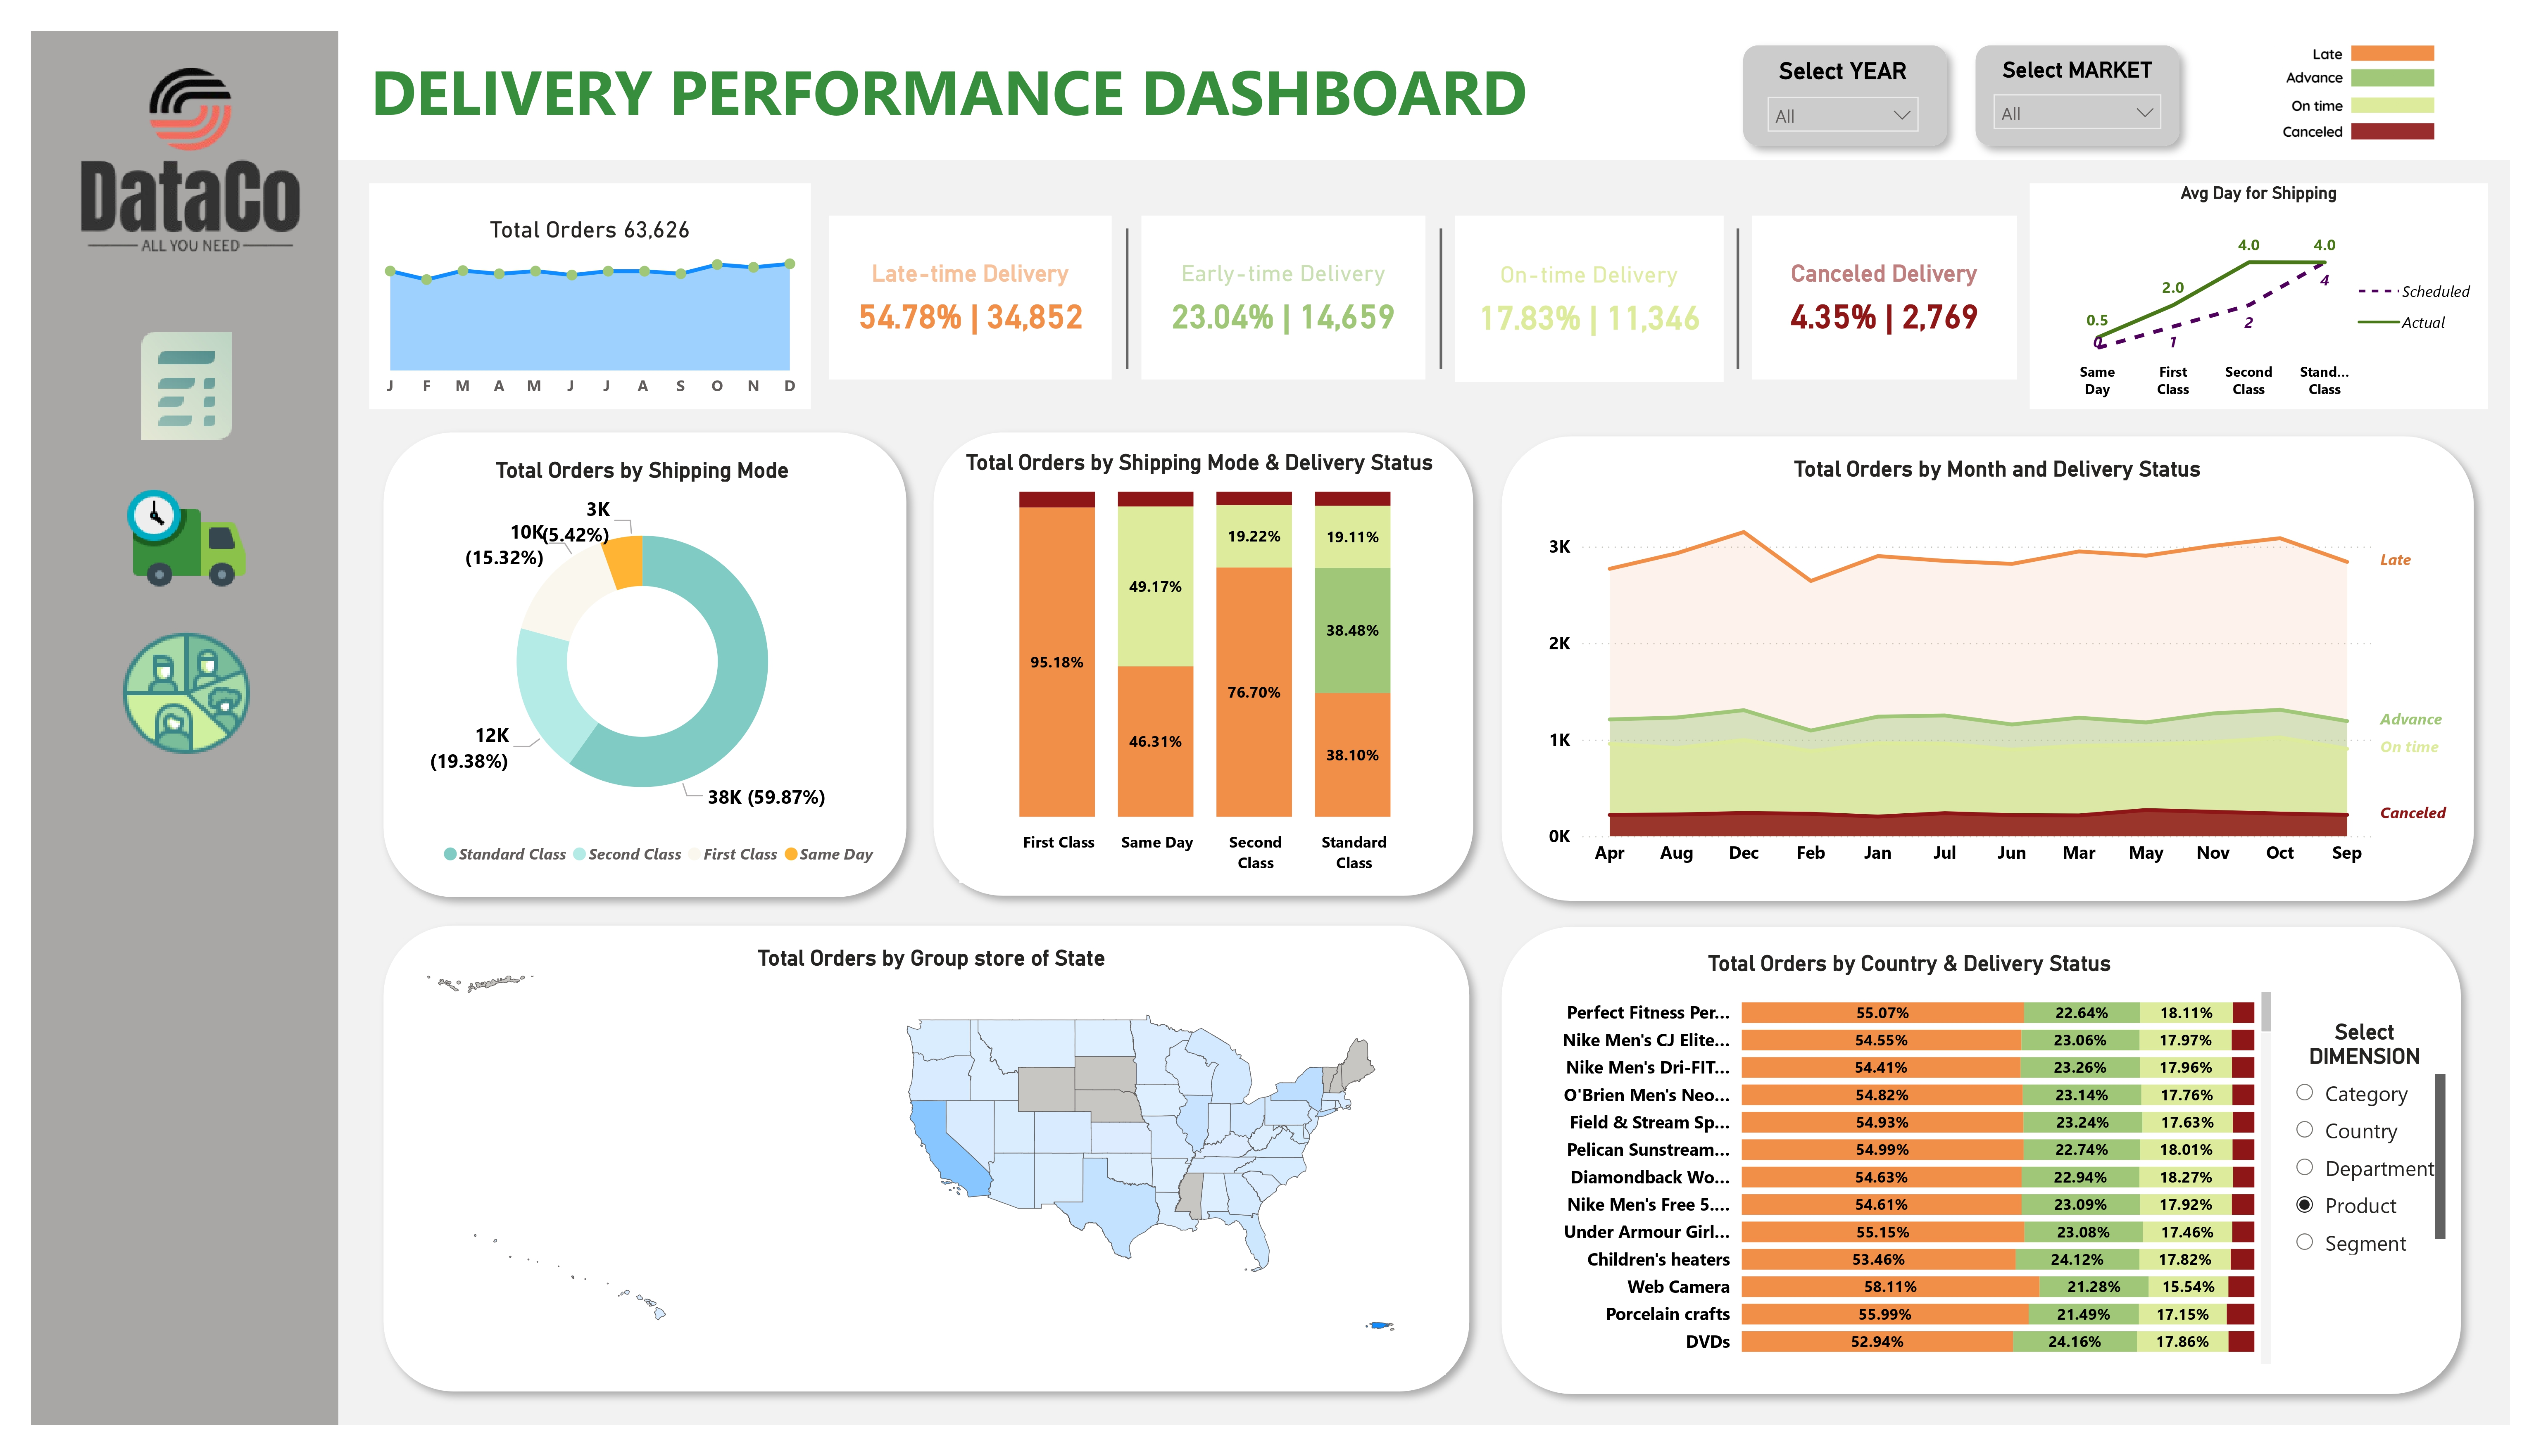

What the dashboard file says about the page in this screenshot:
{"tool":"tableau","page":{"name":"DELIVERY dashboard","canvas":[1600,900],"ordinal":1},"visuals":[{"type":"image","param":"Image/Template Delivery.jpg","box":[0,0,1600,900]},{"type":"filter","title":"Total Orders by Shipping Mode & Delivery Status ","param":"[federated.1q7cowo1s3advo10dbl711lnegs0].[none:Customer Market:nk]","box":[1162,11,160,51]},{"type":"filter","title":"Total Orders by Shipping Mode & Delivery Status ","param":"[federated.1q7cowo1s3advo10dbl711lnegs0].[yr:Order Date:ok]","box":[975,12,160,51]},{"type":"text","box":[196,15,520,44]},{"type":"worksheet","title":"Avg Day for Shipping","mark":"Line","rows":["Days for shipment (scheduled)","Days for shipping (real)"],"cols":["Shipping Mode"],"box":[1212,87,369,129]},{"type":"worksheet","title":"Total orders","mark":"Automatic","box":[302,94,188,28]},{"type":"worksheet","title":"Late-time Delivery","mark":"Automatic","box":[552,105,164,87]},{"type":"worksheet","title":"Early-time Delivery","mark":"Automatic","box":[716,105,169,87]},{"type":"worksheet","title":"On-time Delivery","mark":"Automatic","box":[885,105,157,87]},{"type":"worksheet","title":"Canceled Delivery","mark":"Automatic","box":[1042,105,160,87]},{"type":"worksheet","title":"Total orders by month","mark":"Area","rows":["Calculation_1693916422482567170"],"cols":["Month"],"box":[213,117,320,97]},{"type":"dashboard-object","box":[39,161,111,92.3]},{"type":"worksheet","title":"Total Orders by Month and Delivery Status","mark":"Area","rows":["Calculation_1693916422482567170"],"cols":["Month"],"box":[874,231,690,283]},{"type":"worksheet","title":"Total Orders by Shipping Mode","mark":"Pie","rows":["Calculation_1507298513372962832","Calculation_1507298513373003794"],"box":[215,233,294,224]},{"type":"worksheet","title":"Total Orders by Shipping Mode & Delivery Status ","mark":"Automatic","cols":["Shipping Mode"],"box":[542,235,293,281]},{"type":"dashboard-object","box":[39,253.3,111,92.3]},{"type":"dashboard-object","box":[39,345.7,111,92.3]},{"type":"legend","title":"Total Orders by Shipping Mode","param":"[federated.1q7cowo1s3advo10dbl711lnegs0].[none:Shipping Mode:nk]","box":[250,462,249,50]},{"type":"text","box":[869,549,697,30]},{"type":"worksheet","title":"Total Orders by Group store of State","mark":"Automatic","box":[221,551,611,321]},{"type":"worksheet","title":"Total Orders by Dimension and Delivery Status","mark":"Automatic","rows":["Calculation_1507298513379631125"],"cols":["Calculation_1693916422482567170"],"box":[876,586,531,287]},{"type":"parameter","param":"[Parameters].[Parameter 2]","box":[1416,633,146,143]}]}

Visuals, with their boxes in screenshot pixels (x1, y1, x2, y2), scaled from the page's 1600x900 canvas onto the 2541x1456 screenshot:
image: rect(0, 0, 2541, 1456)
"Total Orders by Shipping Mode & Delivery Status " filter: rect(1845, 18, 2099, 100)
"Total Orders by Shipping Mode & Delivery Status " filter: rect(1549, 19, 1803, 102)
text: rect(311, 24, 1137, 95)
"Avg Day for Shipping" worksheet (Line marks): rect(1925, 141, 2511, 349)
"Total orders" worksheet: rect(480, 152, 778, 197)
"Late-time Delivery" worksheet: rect(877, 170, 1137, 311)
"Early-time Delivery" worksheet: rect(1137, 170, 1406, 311)
"On-time Delivery" worksheet: rect(1406, 170, 1655, 311)
"Canceled Delivery" worksheet: rect(1655, 170, 1909, 311)
"Total orders by month" worksheet (Area marks): rect(338, 189, 847, 346)
dashboard-object: rect(62, 261, 238, 410)
"Total Orders by Month and Delivery Status" worksheet (Area marks): rect(1388, 374, 2484, 831)
"Total Orders by Shipping Mode" worksheet (Pie marks): rect(341, 377, 808, 739)
"Total Orders by Shipping Mode & Delivery Status " worksheet: rect(861, 380, 1326, 835)
dashboard-object: rect(62, 410, 238, 559)
dashboard-object: rect(62, 559, 238, 709)
"Total Orders by Shipping Mode" legend: rect(397, 748, 792, 828)
text: rect(1380, 888, 2487, 937)
"Total Orders by Group store of State" worksheet: rect(351, 891, 1321, 1411)
"Total Orders by Dimension and Delivery Status" worksheet: rect(1391, 948, 2234, 1412)
parameter: rect(2249, 1024, 2481, 1255)
